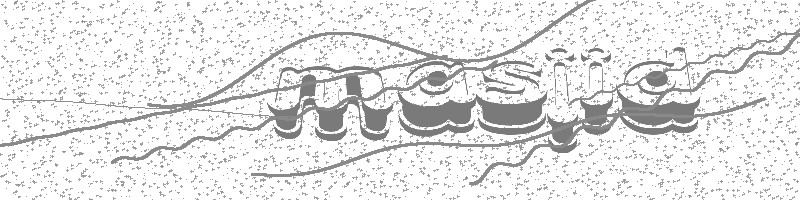a: (395, 52, 476, 135)
d: (615, 43, 701, 135)
i: (545, 43, 580, 154), (577, 41, 616, 136)
m: (267, 63, 395, 143)
s: (477, 57, 547, 136)
